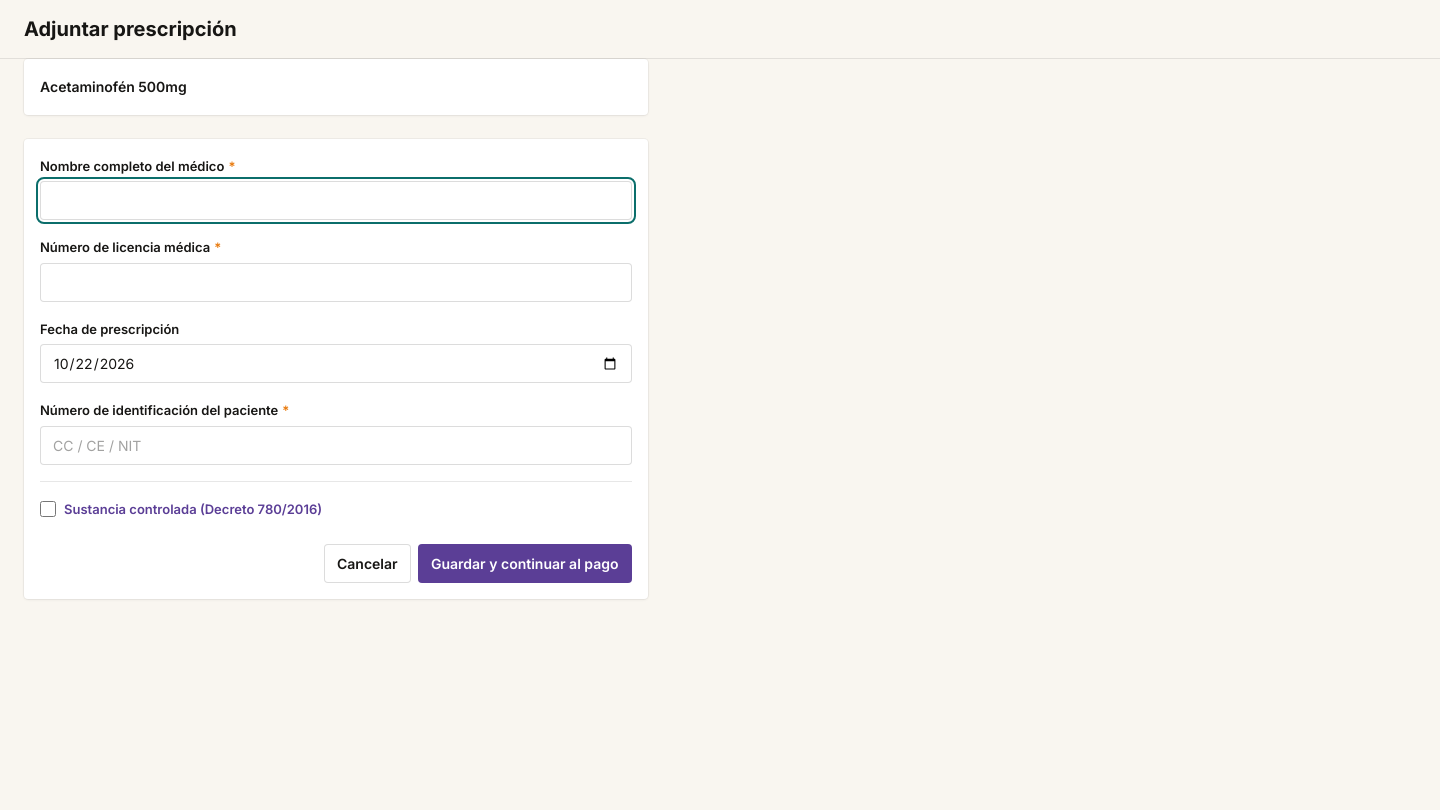
PrescriptionsPage › PRXP-03: validation › shows an error when license number is empty
Type "Dr. Pérez" into the field labelled "Nombre completo del médico*" at point(336, 201), box [40,181,632,220]
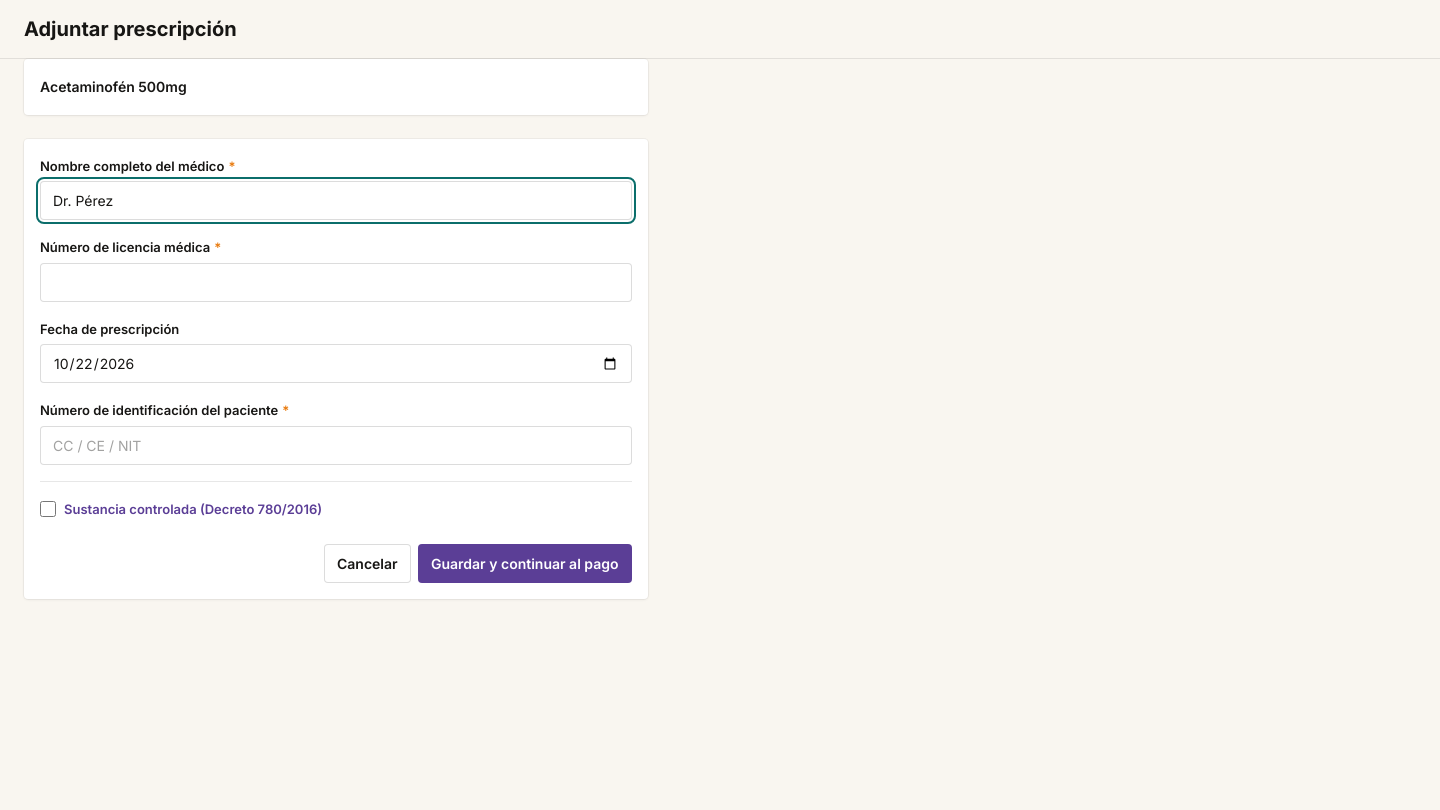
Click the button "Guardar y continuar al pago" at point(525, 564), box [418,544,632,583]
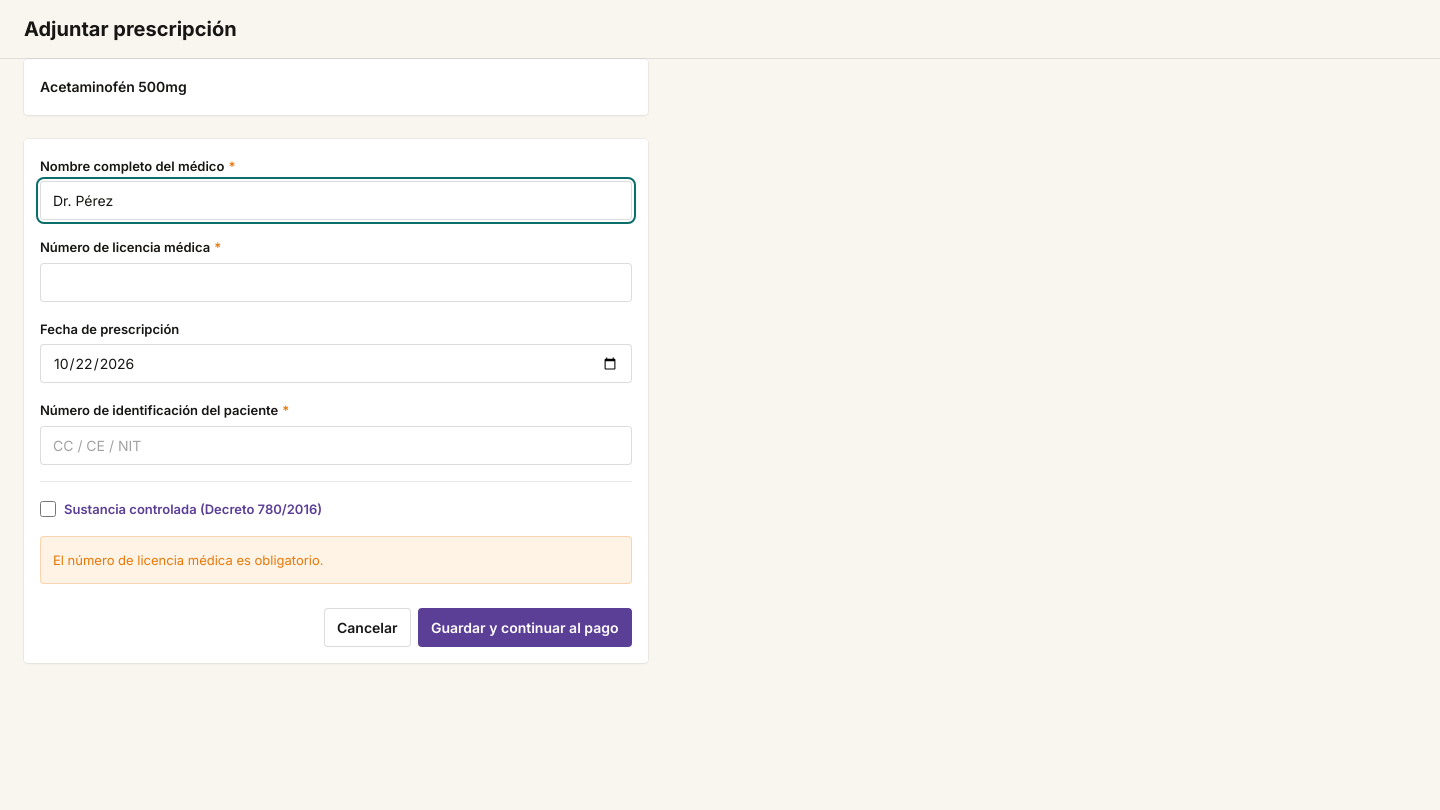
Check: the text "El número de licencia médica es obligatorio." is shown, box [40,536,632,584]
